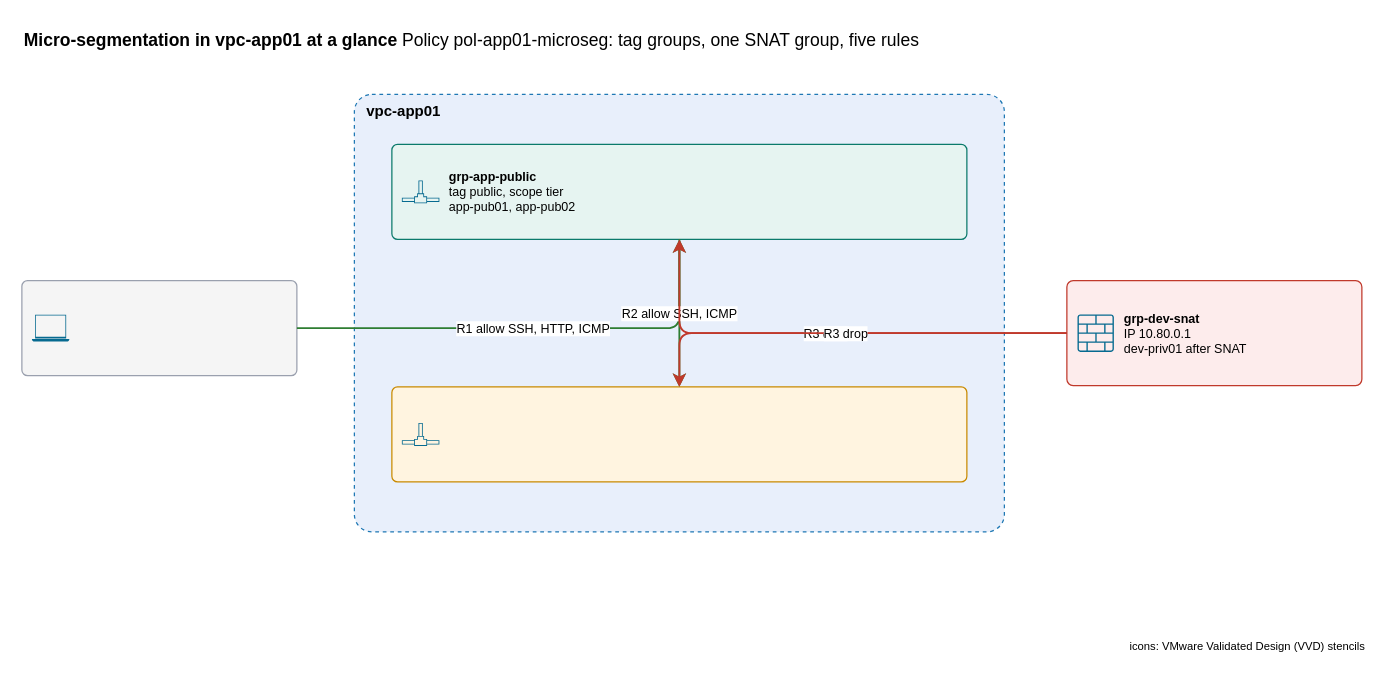
Some shapes in this 1389 by 675 pixel diagram are drawn without their labels. The shapes that lost their labels are listed below. From the top down, each one's box as (x1, y1, x2, y2) in pixels, then its label:
(21, 279, 297, 376): Management 10.20.10.0/24
(391, 386, 967, 482): grp-app-private tag private, scope tier app-priv01
